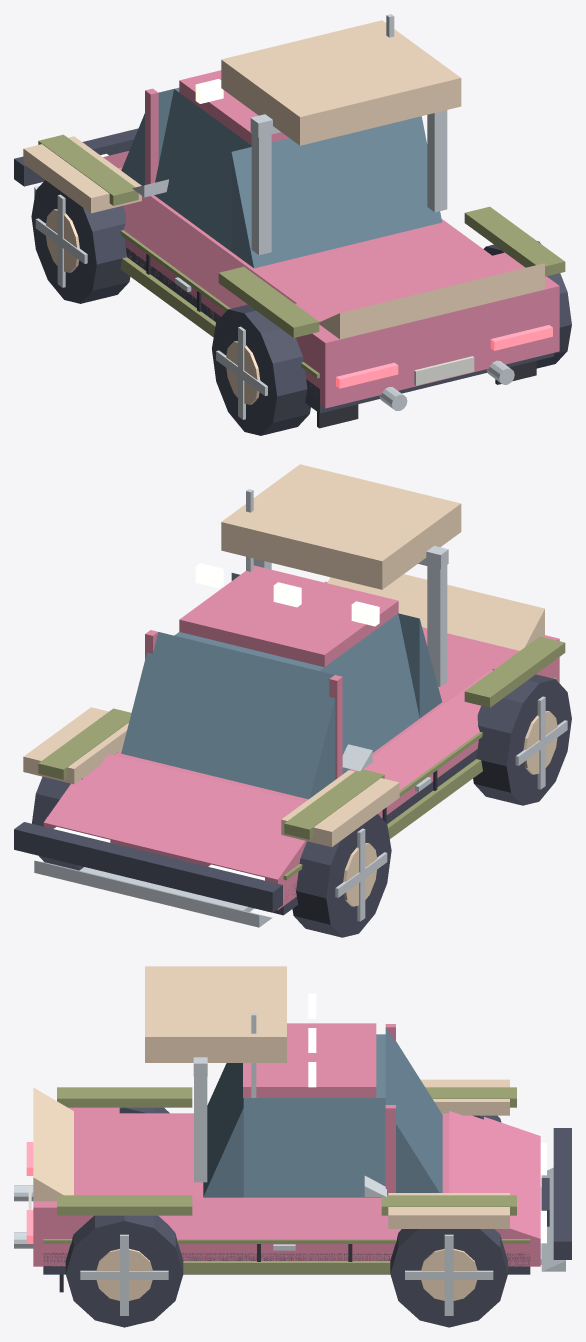
Rendered from summit_sprinter.glb.
3 renders of one model, top to bottom at view 1: azimuth 30°, elevation 25°; view 2: azimuth 150°, elevation 25°; view 3: azimuth 270°, elevation 25°, orthographic. The views are drawn at different scales.
Parts seen in each view (by area): view 1: RearWindow.167, RoofTent.021, Tail.067, BodyUpper.064, CabinSideL.064, Wheel_RL.227, Wheel_FL.227, Body.267, Ducktail.050, ShoulderL.064, Fender-1.060, Arch-1True.143 (+23 smaller); view 2: Windshield.167, RoofTent.021, Nose.064, Roof.267, BashBar.060, CabinSideL.064, Wheel_RL.227, Ducktail.050, Wheel_FL.227, ShoulderL.064, Fender-1.060, Bumper.263 (+25 smaller); view 3: CabinSideR.064, RoofTent.021, ShoulderR.064, Wheel_RR.227, Nose.064, Roof.267, BodyUpper.064, Wheel_FR.227, Windshield.167, Tail.067, Body.267, RearWindow.167 (+21 smaller).
Boxes of the visible parts, x1=… form: RearWindow.167: x1=231, y1=116, x2=442, y2=268; RoofTent.021: x1=221, y1=20, x2=461, y2=145; Tail.067: x1=295, y1=252, x2=559, y2=377; BodyUpper.064: x1=118, y1=167, x2=491, y2=303; CabinSideL.064: x1=154, y1=89, x2=251, y2=251; Wheel_RL.227: x1=212, y1=304, x2=310, y2=435; Wheel_FL.227: x1=31, y1=180, x2=130, y2=303; Body.267: x1=43, y1=179, x2=559, y2=408; Ducktail.050: x1=319, y1=263, x2=544, y2=339; ShoulderL.064: x1=123, y1=196, x2=296, y2=308; Fender-1.060: x1=23, y1=136, x2=141, y2=213; Arch-1True.143: x1=218, y1=266, x2=319, y2=337; Windshield.167: x1=121, y1=632, x2=335, y2=799; RoofTent.021: x1=221, y1=464, x2=461, y2=589; Nose.064: x1=44, y1=754, x2=306, y2=879; Roof.267: x1=179, y1=565, x2=398, y2=667; BashBar.060: x1=14, y1=822, x2=282, y2=912; CabinSideL.064: x1=320, y1=613, x2=419, y2=773; Wheel_RL.227: x1=473, y1=674, x2=571, y2=805; Ducktail.050: x1=327, y1=574, x2=544, y2=650; Wheel_FL.227: x1=292, y1=814, x2=391, y2=937; ShoulderL.064: x1=353, y1=669, x2=492, y2=790; Fender-1.060: x1=281, y1=770, x2=399, y2=847; Bumper.263: x1=34, y1=860, x2=272, y2=927; CabinSideR.064: x1=243, y1=1098, x2=385, y2=1197; RoofTent.021: x1=145, y1=966, x2=286, y2=1062; ShoulderR.064: x1=158, y1=1199, x2=401, y2=1238; Wheel_RR.227: x1=65, y1=1215, x2=183, y2=1327; Nose.064: x1=449, y1=1111, x2=540, y2=1238; Roof.267: x1=243, y1=1023, x2=376, y2=1097; BodyUpper.064: x1=119, y1=1113, x2=449, y2=1198; Wheel_FR.227: x1=390, y1=1229, x2=507, y2=1327; Windshield.167: x1=385, y1=1027, x2=442, y2=1192; Tail.067: x1=33, y1=1107, x2=119, y2=1238; Body.267: x1=33, y1=1239, x2=540, y2=1266; RearWindow.167: x1=203, y1=1063, x2=243, y2=1197.
Size of the model in its own units: 3.16 by 3.04 by 5.5.
